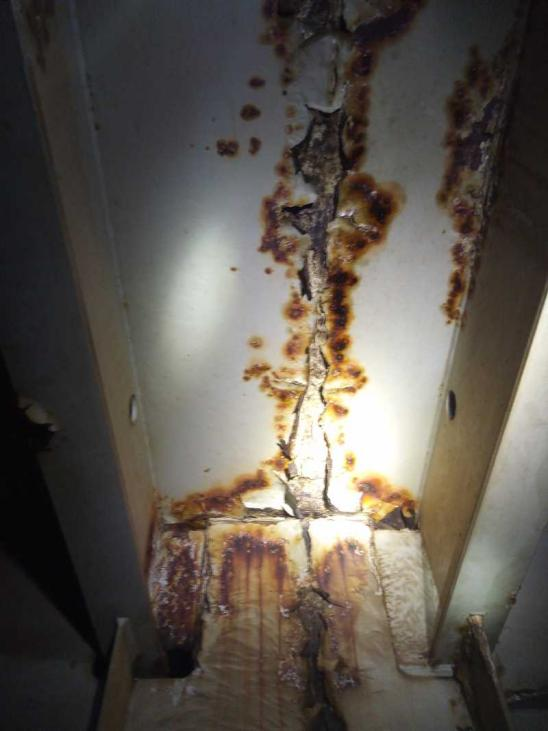corrosion: (422, 45, 529, 325), (273, 76, 406, 297), (245, 280, 378, 434), (239, 0, 438, 76), (207, 527, 292, 687), (314, 534, 396, 695), (278, 564, 354, 731), (141, 534, 209, 684), (168, 456, 290, 515), (326, 460, 426, 519), (235, 127, 271, 155), (209, 122, 237, 155), (238, 80, 272, 103), (244, 111, 265, 125)
